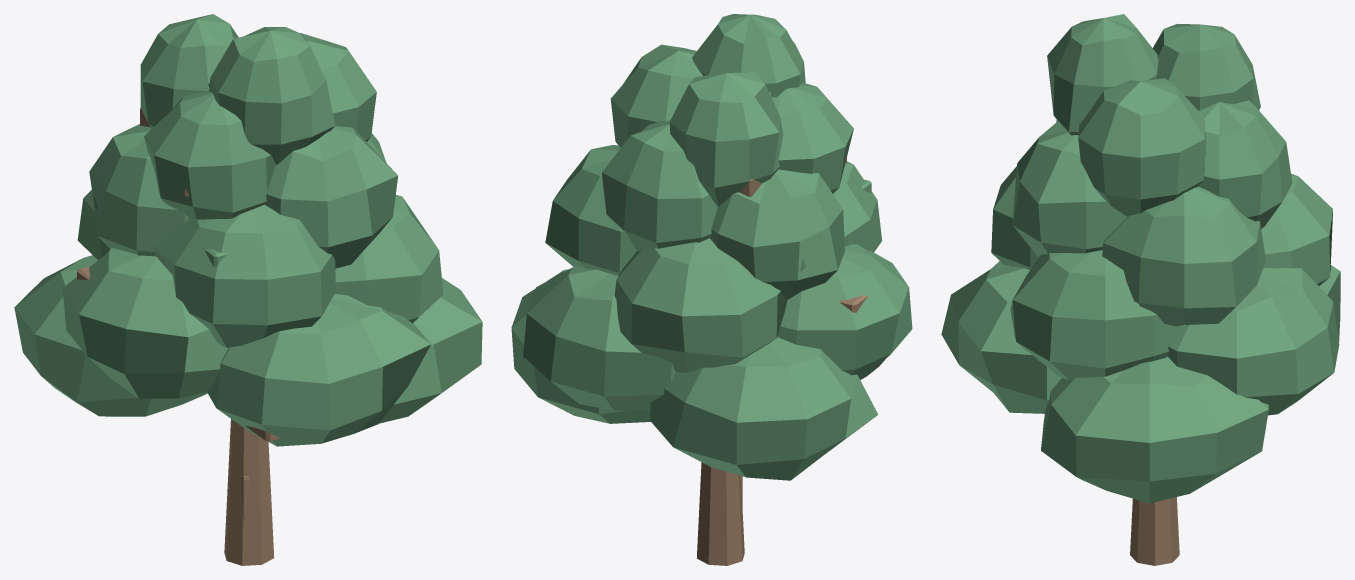
File: b08_eastern_white_pine.glb
The picture shows the model from 3 angles, left to right: view 1: azimuth 30°, elevation 25°; view 2: azimuth 150°, elevation 25°; view 3: azimuth 270°, elevation 25°; orthographic projection. The views are drawn at different scales.
Parts seen in each view (by area): view 1: b08_eastern_white_pine; view 2: b08_eastern_white_pine; view 3: b08_eastern_white_pine.
Part boxes in pixels (bbox=[...]): b08_eastern_white_pine: bbox=[14, 14, 482, 565]; b08_eastern_white_pine: bbox=[511, 14, 912, 565]; b08_eastern_white_pine: bbox=[941, 14, 1340, 565].
Size of the model in its own units: 5.13 by 6.9 by 4.67.
